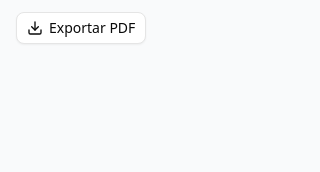
downloads the server PDF using the applied report filters and session, on click only
The image size is (320, 172).
Earlier steps of the test are not shown.
Click the button "Exportar PDF" at (81, 28), box [16,12,146,44]
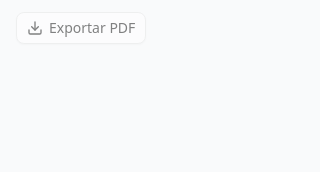
Check: the button "Exportar PDF" is disabled
Click the button "Exportar PDF" at (81, 28), box [16,12,146,44]
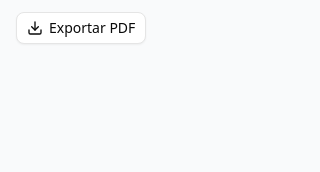
Check: the button "Exportar PDF" is enabled, box [16,12,146,44]
